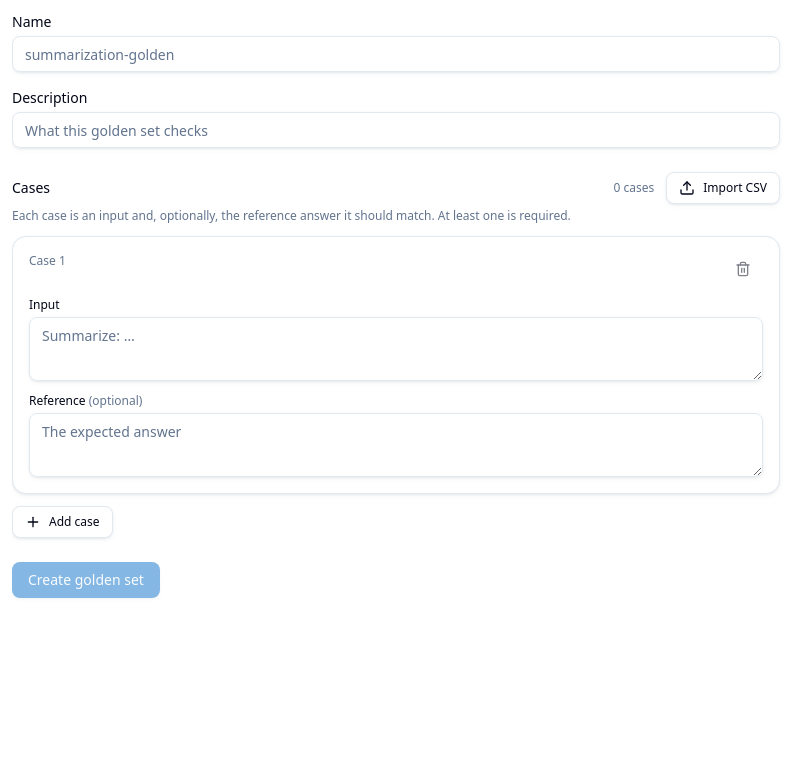
DatasetEditorForm › can remove a row (but not the last one)
Expected: the button named "Remove case 1" is disabled, x1=723 y1=253 x2=763 y2=285
Click the button "Add case".
click(62, 522)  # box x1=12 y1=506 x2=113 y2=538
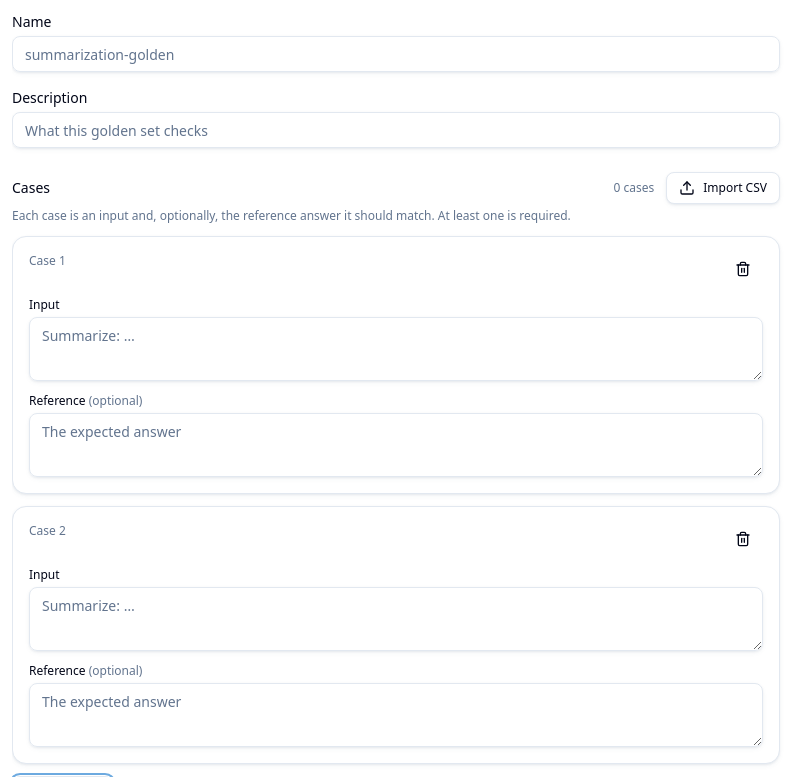
Click the button named "Remove case 2".
click(743, 539)  # box x1=723 y1=523 x2=763 y2=555
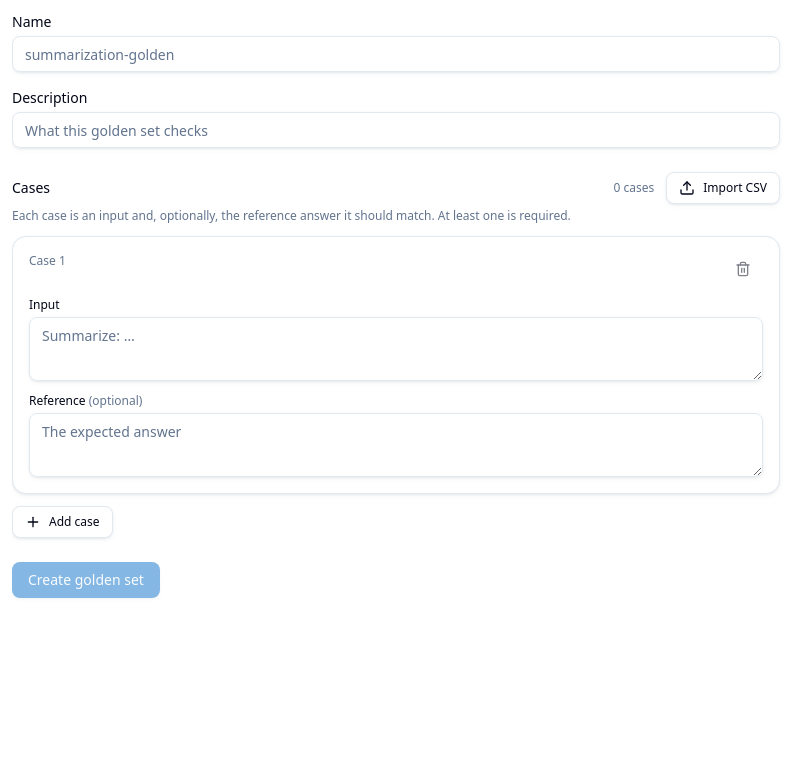
Now the text "Case 2" is gone
